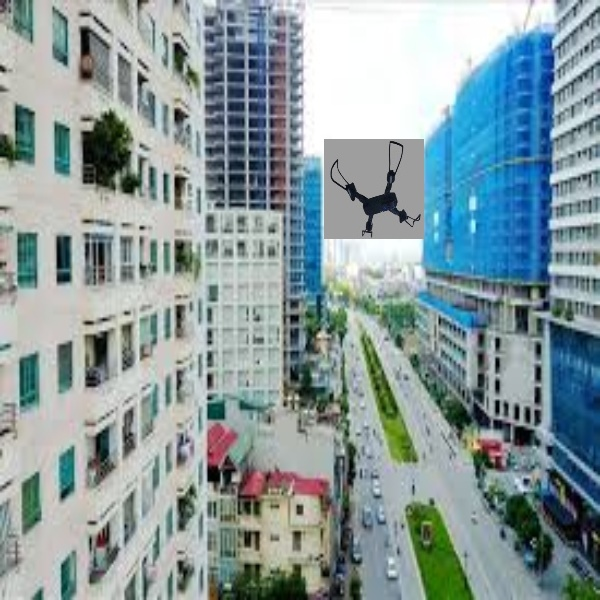drone: (327, 141, 423, 239)
